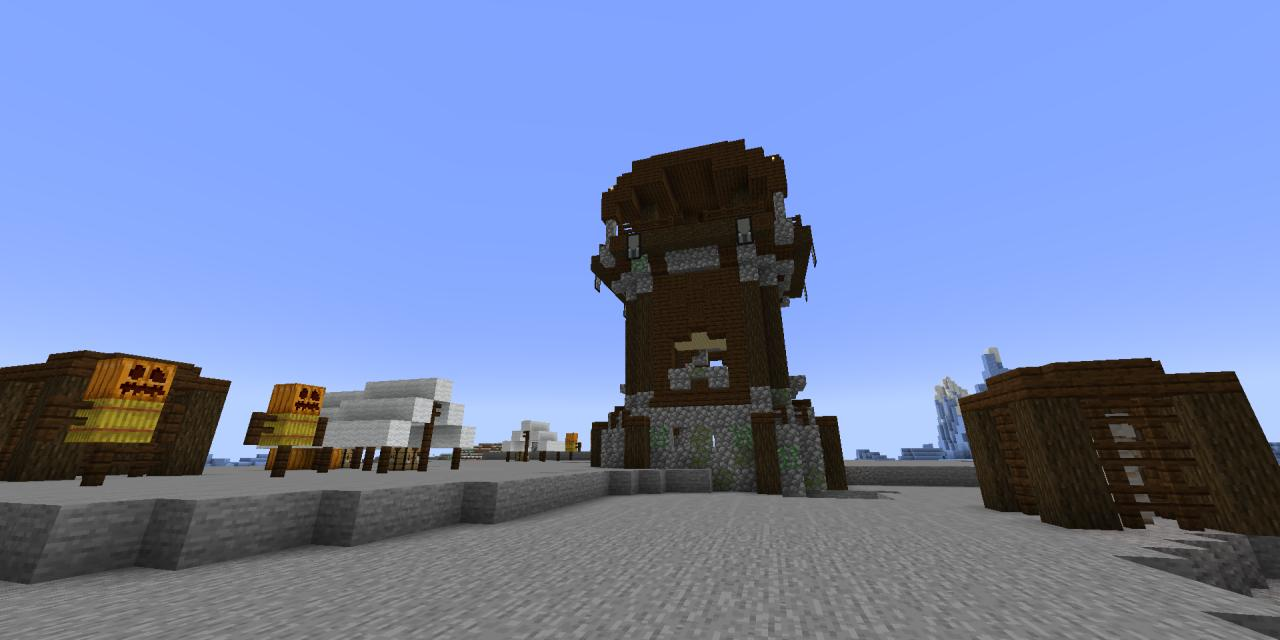pillager outpost: (580, 128, 861, 517)
